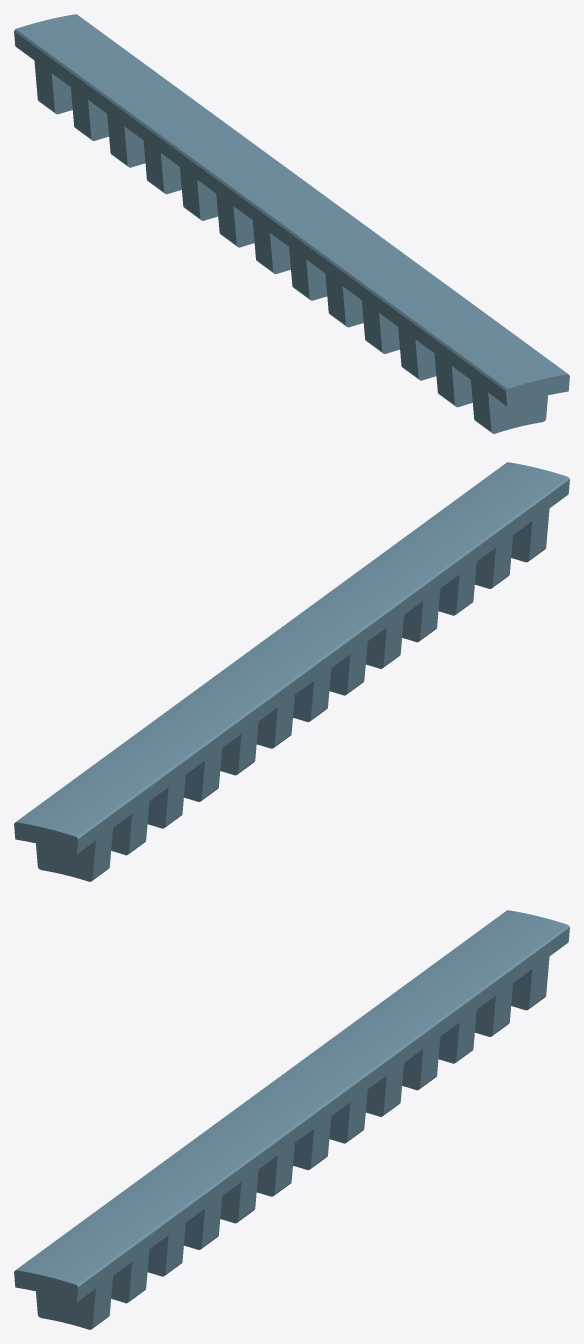
The model's file is comb-continuous-rail.glb.
3 views of the same model, one above another, from view 1: azimuth 30°, elevation 25°; view 2: azimuth 150°, elevation 25°; view 3: azimuth 330°, elevation 25° (orthographic).
Visible parts, largest first — view 1: comb-rail-complete; view 2: comb-rail-complete; view 3: comb-rail-complete.
Part boxes in pixels (x1,y1,x2,y2): comb-rail-complete: [14, 14, 569, 433]; comb-rail-complete: [14, 462, 569, 881]; comb-rail-complete: [14, 910, 569, 1329].
Bounding box in the file's own units: 38.65 × 35.56 × 514.
